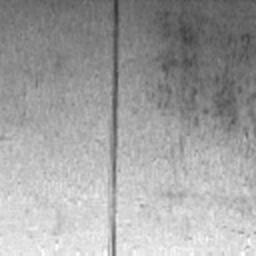Scratches: (110, 0, 120, 256)
